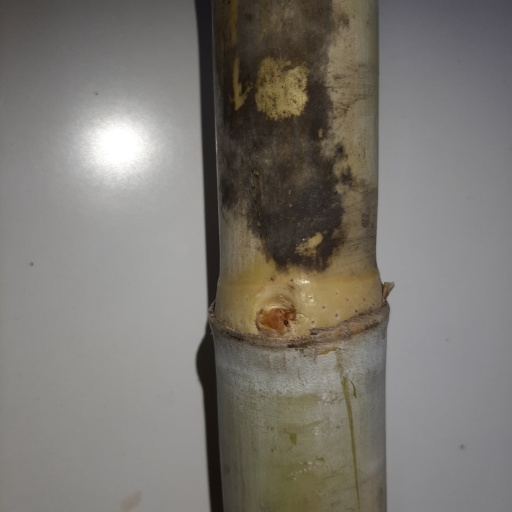Damage_Bud: (256, 304, 296, 335)
